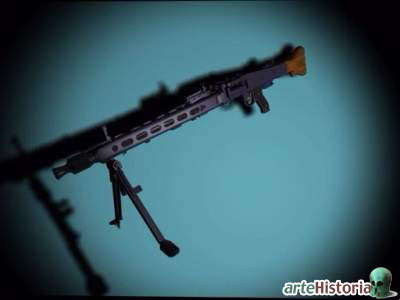rifle: (25, 34, 329, 266)
